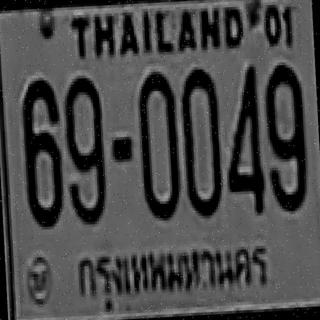N00: (136, 70, 180, 218), (178, 67, 222, 215), (263, 63, 304, 156)
N04: (220, 64, 264, 215)
N09: (61, 75, 108, 223), (262, 64, 308, 210)
P04: (69, 232, 282, 314)
